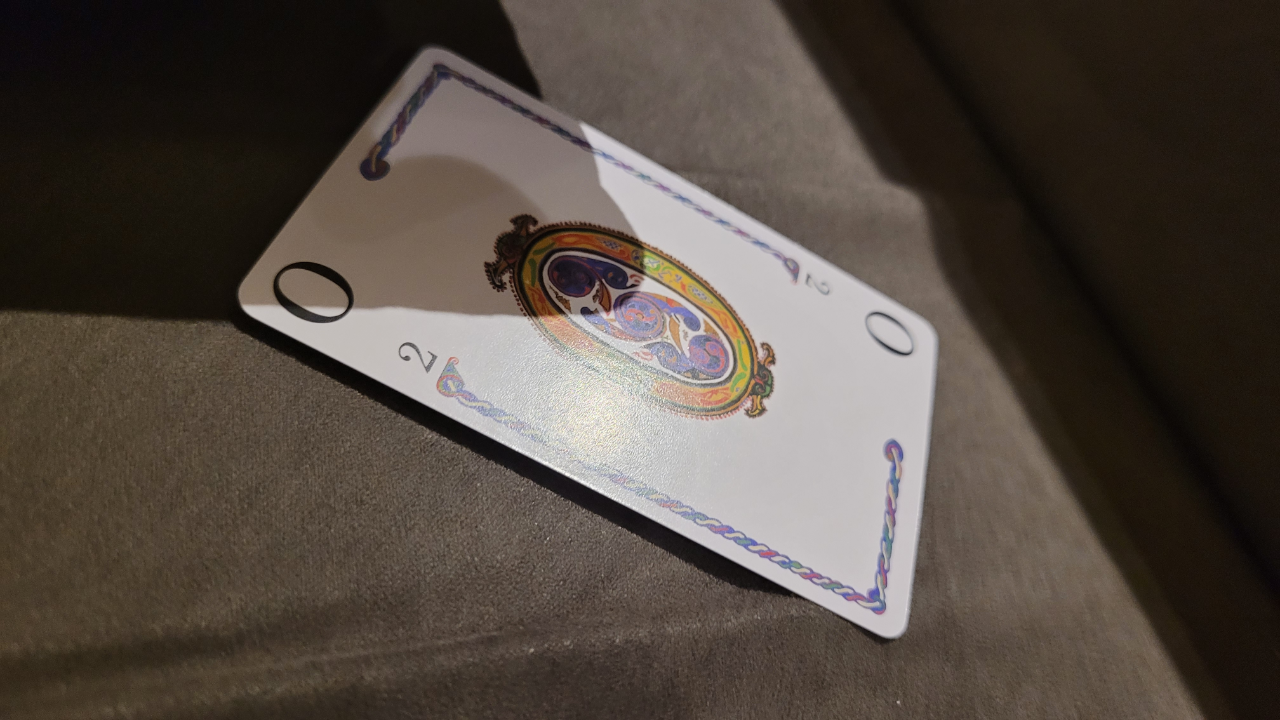quiddler_card: (218, 24, 969, 648)
